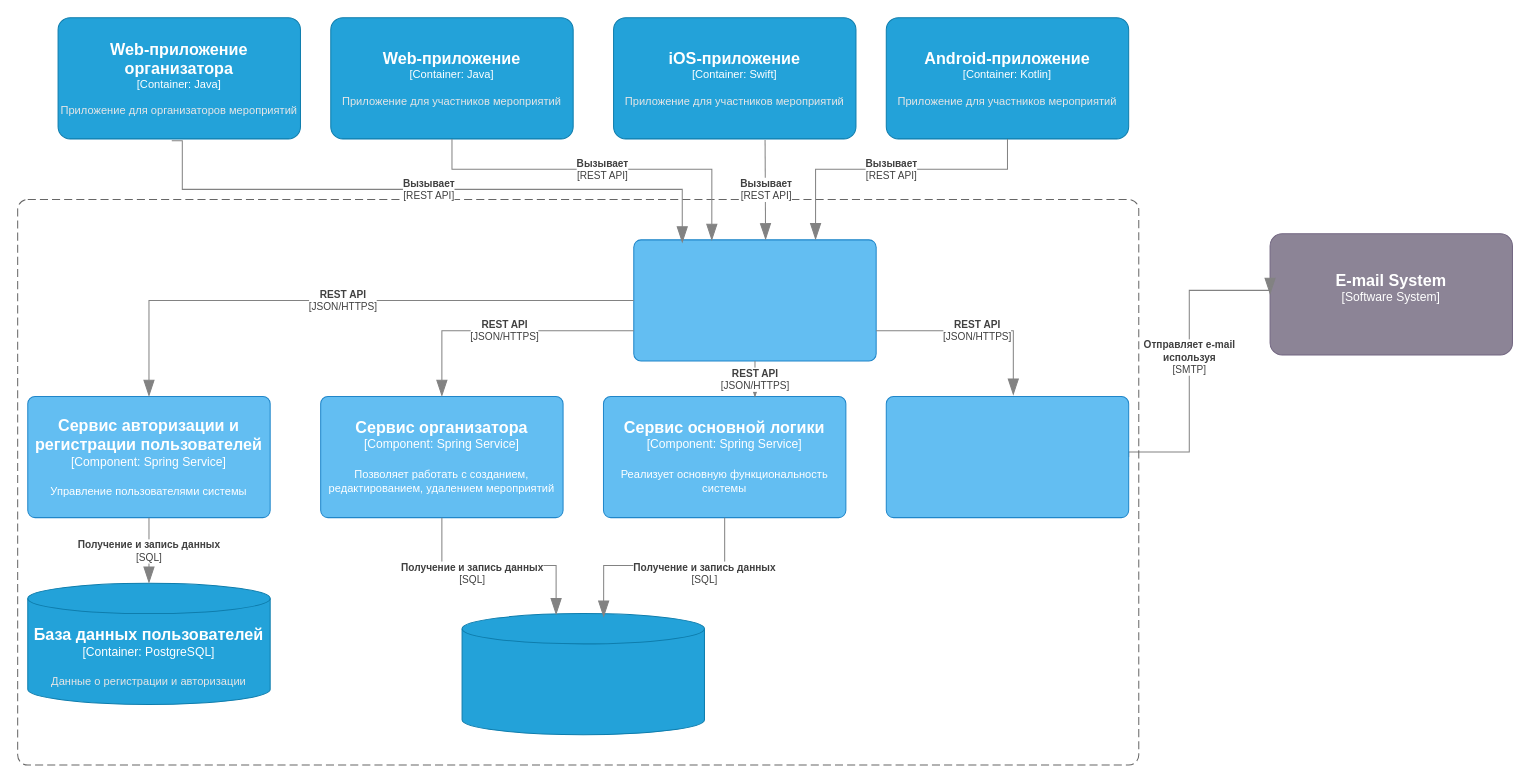
The diagram is 1530 pixels wide and 783 high, and some of its shapes have lost their labels. Each missing label, with the box of its shape:
Backend-приложение [Container]: (17, 198, 1139, 765)
E-mail подсистема [Component: Spring Service] Отправляет e-mail: (885, 395, 1129, 518)
База данных [Container: PostgreSQL] База данных системы для мероприятий: (461, 613, 704, 735)
Балансировщик [Component: Nginx] Распределяет нагрузку на систему: (633, 239, 876, 361)
